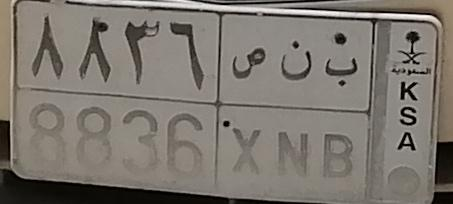3: (120, 19, 161, 178)
6: (166, 22, 205, 180)
8: (29, 11, 67, 172), (74, 17, 113, 173)
B: (322, 57, 358, 177)
N: (277, 39, 313, 180)
X: (231, 46, 266, 176)
